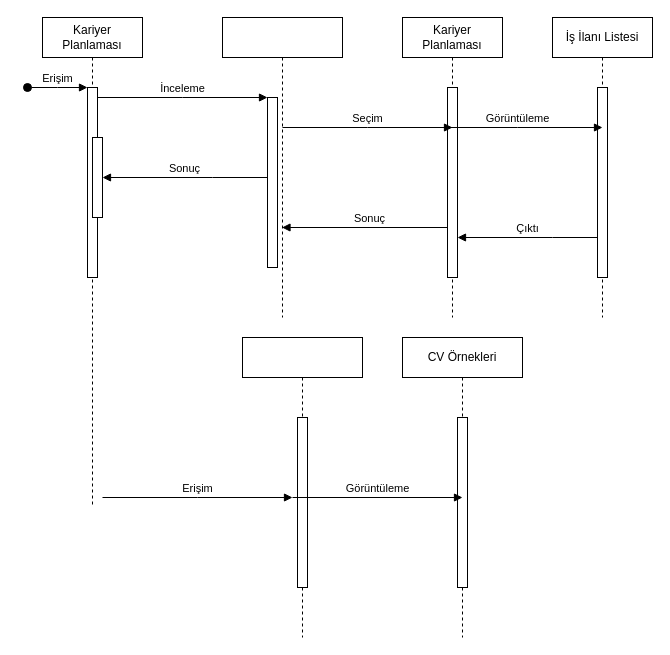
This 670x655 diagram has some shape labels left out. The box of each missing label's shape, as (x1, y1, x2, y2) in pixels:
CV Hazırlama: (242, 336, 362, 638)
Kariyer Bİlgilendirici İçerik: (222, 16, 342, 318)
